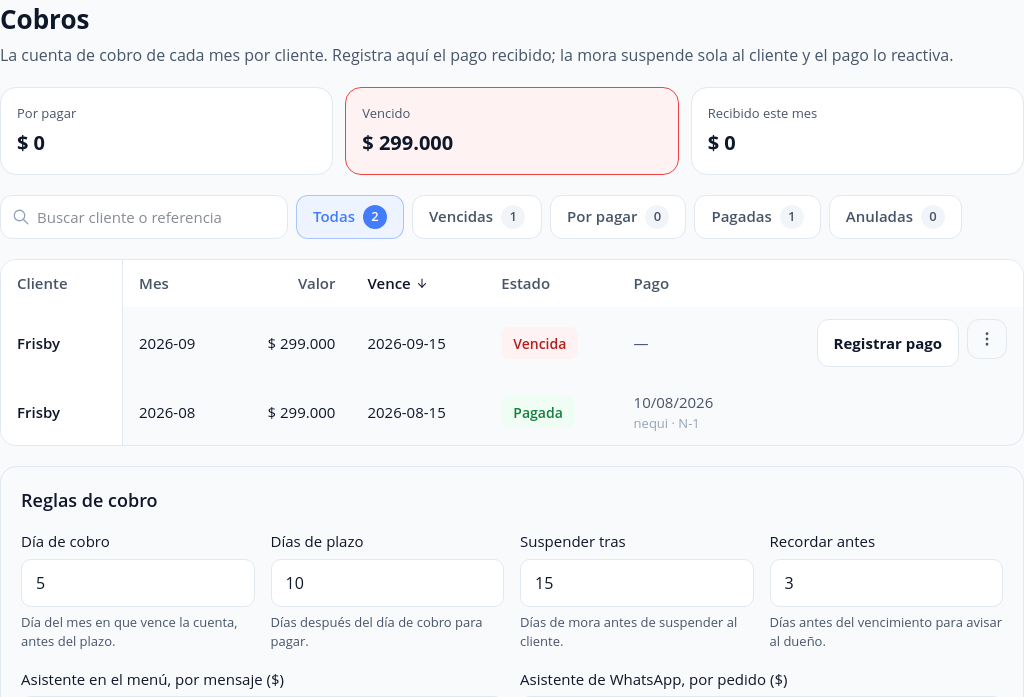
Scenario: registra el pago de una cuenta vencida con medio y referencia
Expected: the row "Frisby 2026-09 $ 299.000 2026-09-15 Vencida — Registrar pago" is shown, [1,307,1023,379]
Step 1. Click the button "Registrar pago" → [888, 343], box [817,319,959,367]
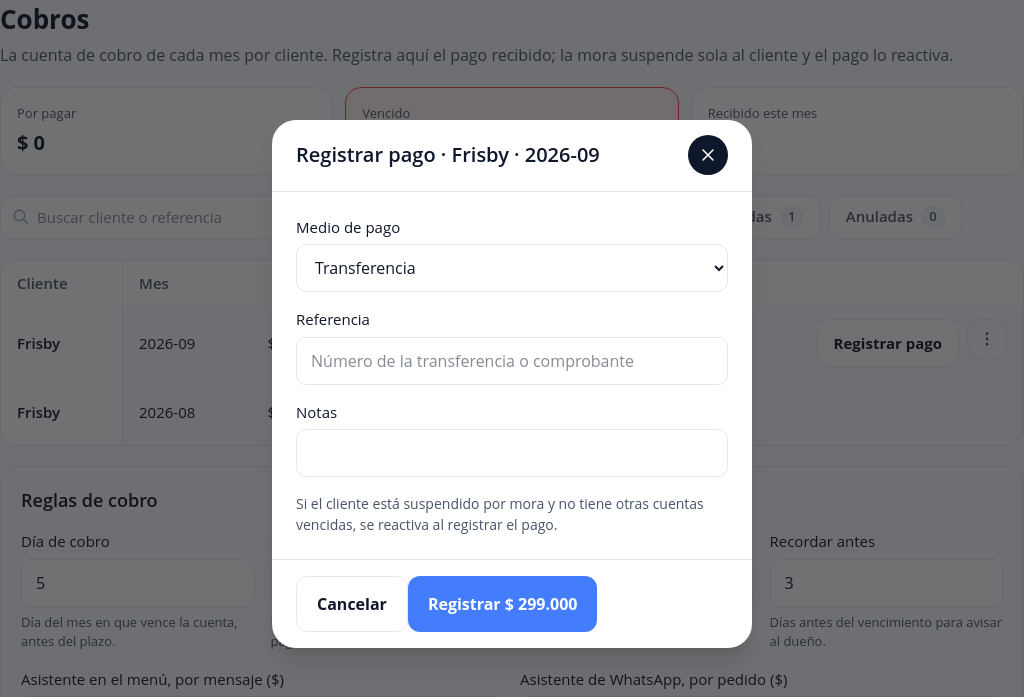
Step 2. Select "Nequi" in the dropdown labelled "Medio de pago" → [512, 268], box [296,244,728,292]
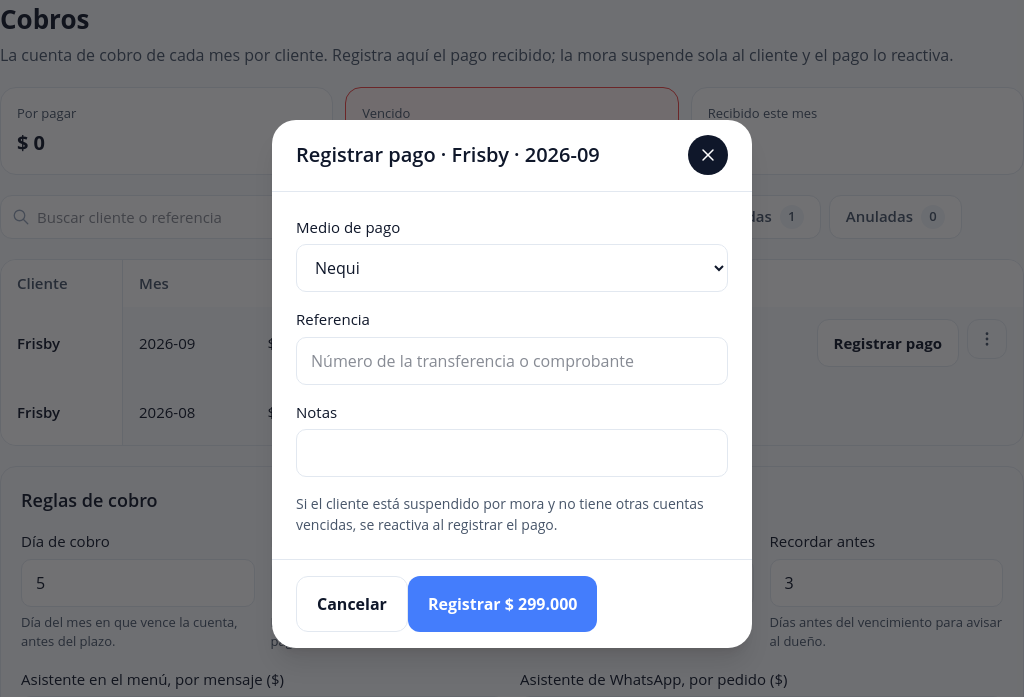
Step 3. Type "N-778" into the field labelled "Referencia" → [512, 361], box [296,337,728,385]
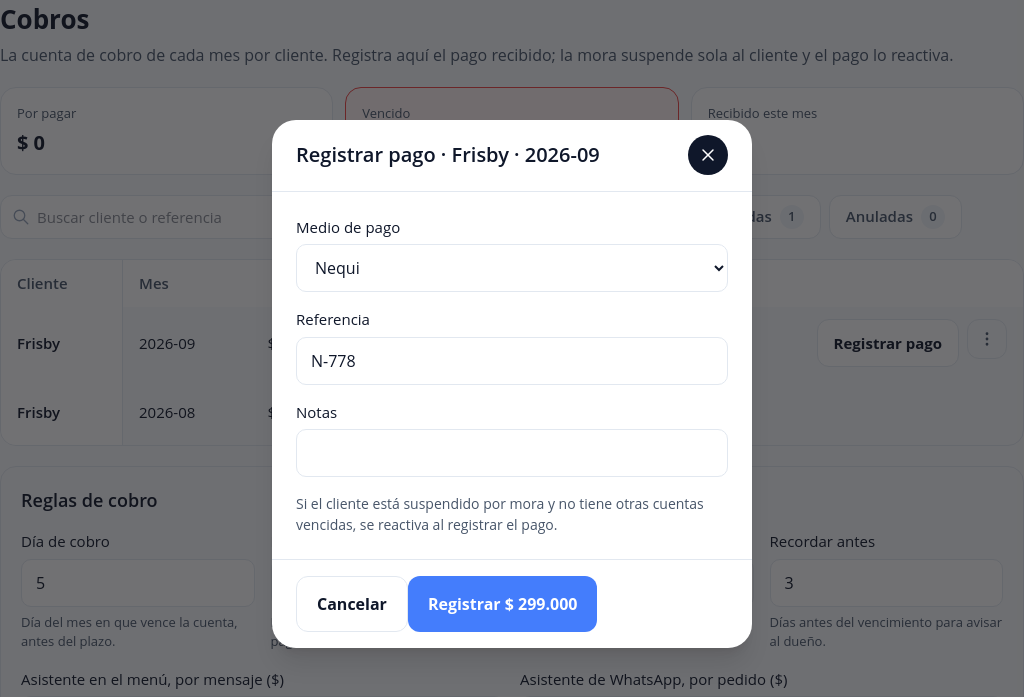
Step 4. Click the button "Registrar $ 299.000" → [503, 604], box [408,576,597,632]
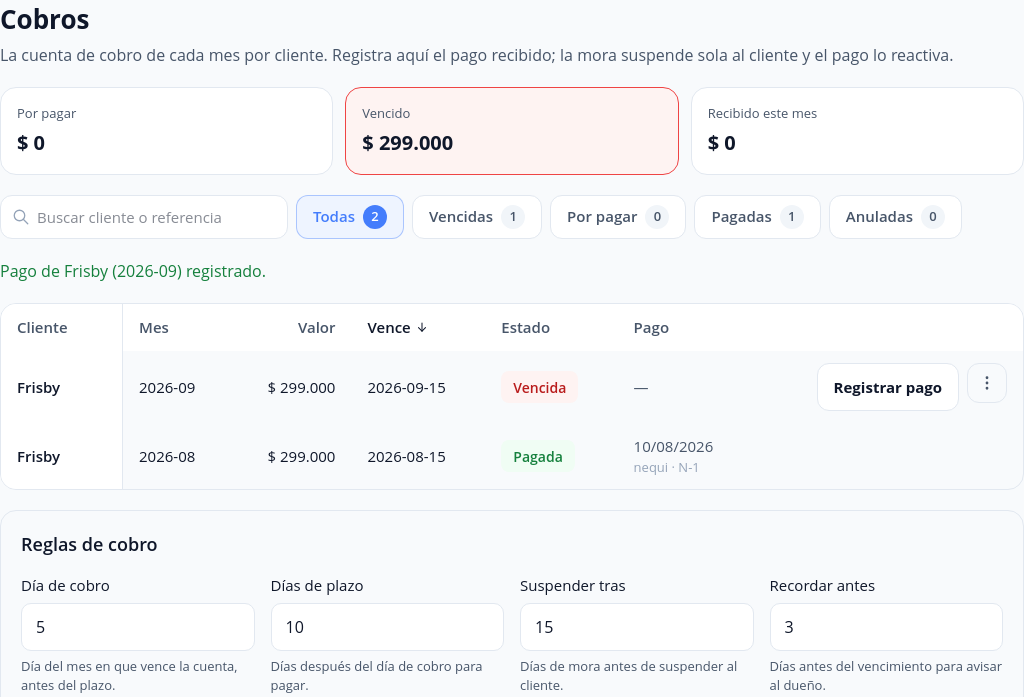
Result: the message reads "Pago de Frisby (2026-09) registrado." at [0,260,266,282]
